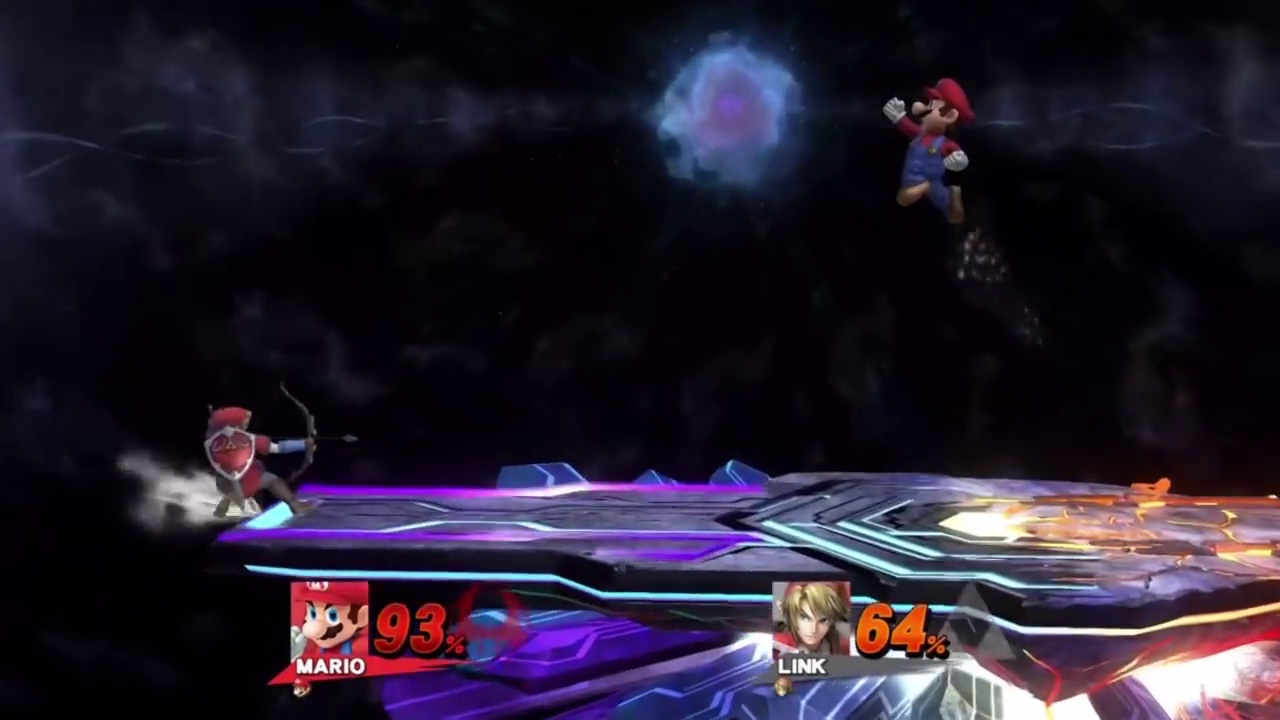Mario: (885, 77, 973, 230)
